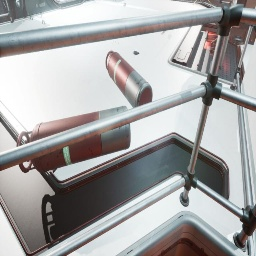NitrogenTank ,: (16, 106, 131, 173), (105, 50, 153, 108)
